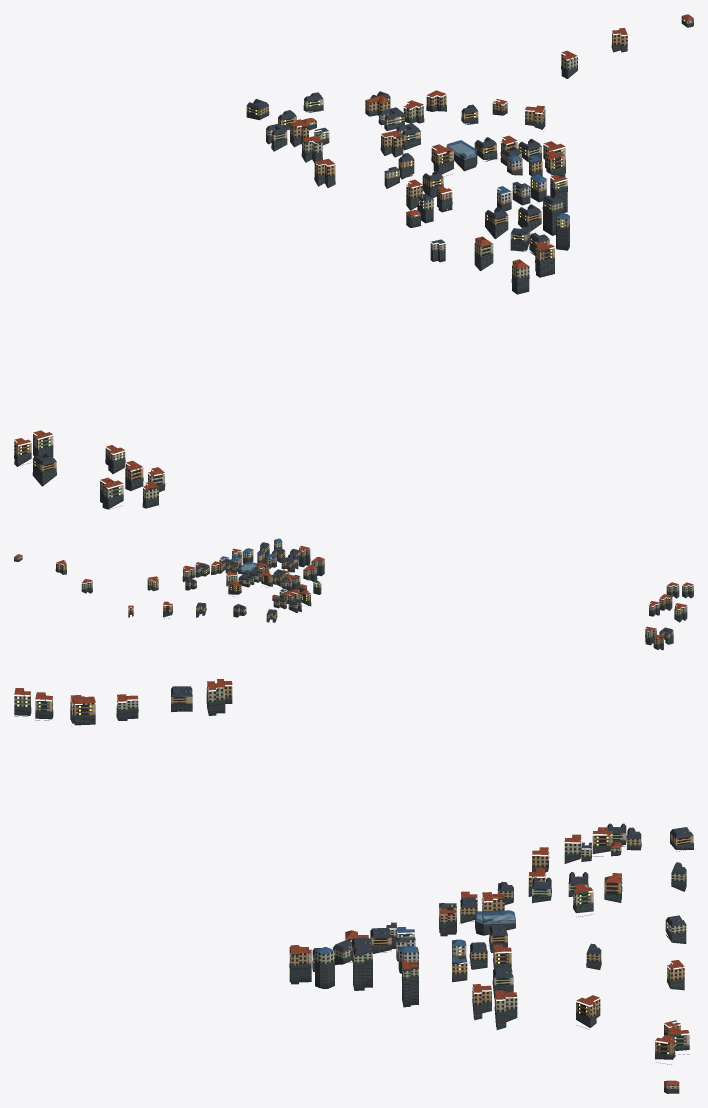
The model's file is osm_buildings_T_W01_S02_Q2.glb.
3 renders of one model, top to bottom at view 1: azimuth 30°, elevation 25°; view 2: azimuth 150°, elevation 25°; view 3: azimuth 270°, elevation 25°, orthographic. The views are drawn at different scales.
Visible parts, largest first — view 1: OSM_T_W01_S02_Q2_foundation, OSM_T_W01_S02_Q2_wall_french_ochre, OSM_T_W01_S02_Q2_wall_cream_stucco, OSM_T_W01_S02_Q2_roof_terracotta, OSM_T_W01_S02_Q2_roof_mansard_slate, OSM_T_W01_S02_Q2_roof_mansard_deck, OSM_T_W01_S02_Q2_trim_cornice, OSM_T_W01_S02_Q2_roof_mint_metal; view 2: OSM_T_W01_S02_Q2_foundation, OSM_T_W01_S02_Q2_wall_french_ochre, OSM_T_W01_S02_Q2_wall_cream_stucco, OSM_T_W01_S02_Q2_roof_terracotta, OSM_T_W01_S02_Q2_roof_mansard_slate, OSM_T_W01_S02_Q2_roof_mansard_deck, OSM_T_W01_S02_Q2_roof_mint_metal, OSM_T_W01_S02_Q2_trim_cornice; view 3: OSM_T_W01_S02_Q2_foundation, OSM_T_W01_S02_Q2_wall_french_ochre, OSM_T_W01_S02_Q2_wall_cream_stucco, OSM_T_W01_S02_Q2_roof_terracotta, OSM_T_W01_S02_Q2_roof_mansard_slate, OSM_T_W01_S02_Q2_roof_mansard_deck, OSM_T_W01_S02_Q2_trim_cornice, OSM_T_W01_S02_Q2_roof_mint_metal.
Boxes of the visible parts, x1=… form: OSM_T_W01_S02_Q2_foundation: x1=14, y1=20, x2=693, y2=509; OSM_T_W01_S02_Q2_wall_french_ochre: x1=14, y1=33, x2=627, y2=481; OSM_T_W01_S02_Q2_wall_cream_stucco: x1=33, y1=54, x2=577, y2=500; OSM_T_W01_S02_Q2_roof_terracotta: x1=14, y1=14, x2=693, y2=489; OSM_T_W01_S02_Q2_roof_mansard_slate: x1=33, y1=92, x2=562, y2=465; OSM_T_W01_S02_Q2_roof_mansard_deck: x1=35, y1=91, x2=560, y2=461; OSM_T_W01_S02_Q2_trim_cornice: x1=14, y1=17, x2=692, y2=509; OSM_T_W01_S02_Q2_roof_mint_metal: x1=14, y1=45, x2=627, y2=506; OSM_T_W01_S02_Q2_foundation: x1=14, y1=546, x2=693, y2=650; OSM_T_W01_S02_Q2_wall_french_ochre: x1=56, y1=548, x2=673, y2=645; OSM_T_W01_S02_Q2_wall_cream_stucco: x1=81, y1=540, x2=693, y2=638; OSM_T_W01_S02_Q2_roof_terracotta: x1=14, y1=545, x2=693, y2=638; OSM_T_W01_S02_Q2_roof_mansard_slate: x1=185, y1=543, x2=673, y2=634; OSM_T_W01_S02_Q2_roof_mansard_deck: x1=187, y1=542, x2=671, y2=632; OSM_T_W01_S02_Q2_roof_mint_metal: x1=59, y1=549, x2=693, y2=647; OSM_T_W01_S02_Q2_trim_cornice: x1=14, y1=542, x2=691, y2=643; OSM_T_W01_S02_Q2_foundation: x1=14, y1=694, x2=693, y2=1093; OSM_T_W01_S02_Q2_wall_french_ochre: x1=73, y1=682, x2=693, y2=1055; OSM_T_W01_S02_Q2_wall_cream_stucco: x1=14, y1=684, x2=689, y2=1046; OSM_T_W01_S02_Q2_roof_terracotta: x1=14, y1=679, x2=689, y2=1085; OSM_T_W01_S02_Q2_roof_mansard_slate: x1=171, y1=687, x2=693, y2=978; OSM_T_W01_S02_Q2_roof_mansard_deck: x1=173, y1=686, x2=690, y2=974; OSM_T_W01_S02_Q2_trim_cornice: x1=14, y1=686, x2=689, y2=1085; OSM_T_W01_S02_Q2_roof_mint_metal: x1=14, y1=698, x2=693, y2=1055.
Size of the model in its own units: 949 by 121 by 564.
Materials: 16 (16 with a texture image).
